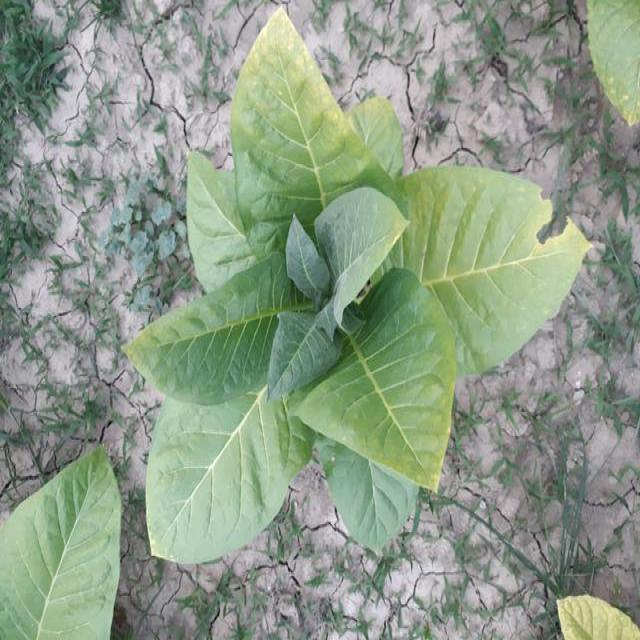crop: (140, 23, 583, 568), (0, 452, 129, 639), (582, 0, 640, 126), (574, 595, 640, 640)
